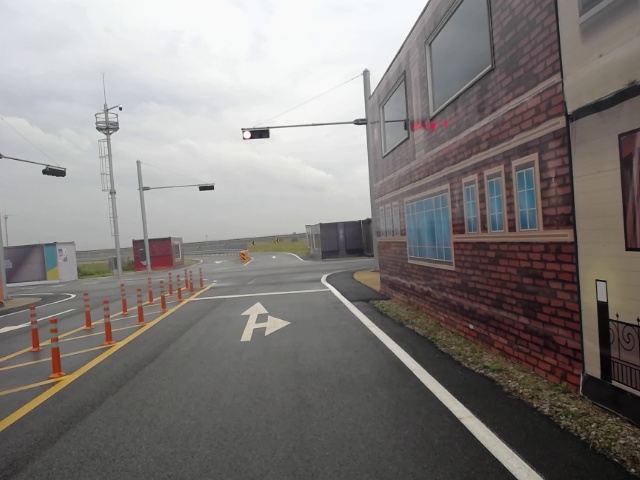red_3: (242, 128, 270, 140)
